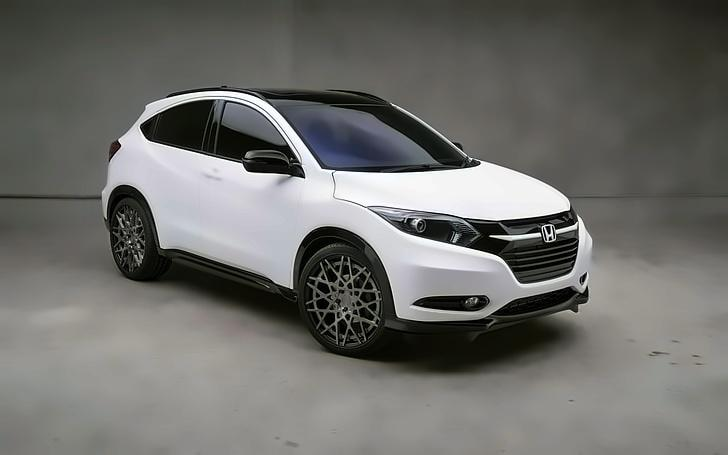Car hood: (331, 162, 573, 223)
Driver-s door - -F-R-: (207, 92, 292, 287)
Fender - -F-R-: (291, 162, 369, 292)
Fender - -R-R-: (111, 151, 145, 199)
Front bumper: (370, 222, 597, 338)
Headlight - -R-: (365, 202, 482, 250)
Passenger-s door - -R-R-: (145, 92, 207, 263)
Rear bumper: (95, 169, 118, 235)
Rear light - -R-: (105, 132, 126, 164)
Side bumper - -R-: (151, 242, 300, 308)
Side mirror - -R-: (239, 145, 299, 178)
